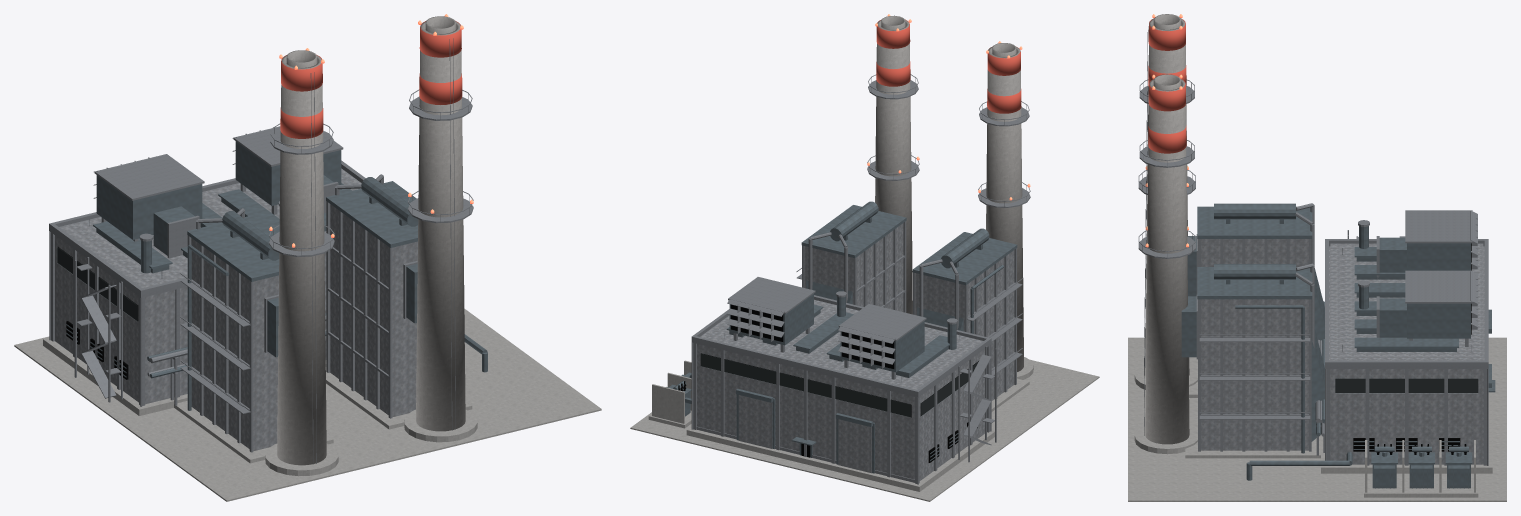
The model's file is gas_plant.glb.
The picture shows the model from 3 angles, left to right: view 1: azimuth 30°, elevation 25°; view 2: azimuth 150°, elevation 25°; view 3: azimuth 270°, elevation 25°; orthographic projection. The views are drawn at different scales.
Visible parts, largest first — view 1: HRSG, Stacks, Plinth, Hall, Intake, Trim, StackSteel, StackBands, Pipes; view 2: Hall, HRSG, Plinth, Stacks, Intake, Trim, StackBands, StackSteel, Pipes; view 3: HRSG, Hall, Plinth, Stacks, Intake, Trim, Transformers, Pipes, StackBands, StackSteel.
Boxes of the visible parts, x1,y1,x2,y2 form: HRSG: (180, 177, 418, 452); Stacks: (277, 16, 465, 465); Plinth: (14, 308, 601, 501); Hall: (55, 168, 361, 403); Intake: (93, 126, 343, 273); Trim: (49, 160, 365, 406); StackSteel: (269, 38, 473, 464); StackBands: (280, 20, 462, 138); Pipes: (147, 174, 487, 410); Hall: (697, 299, 984, 480); HRSG: (796, 201, 1022, 400); Plinth: (630, 357, 1099, 501); Stacks: (875, 15, 1023, 371); Intake: (727, 277, 957, 379); Trim: (691, 295, 996, 484); StackBands: (876, 19, 1021, 113); StackSteel: (867, 74, 1030, 207); Pipes: (808, 232, 1003, 333); HRSG: (1181, 203, 1324, 451); Hall: (1329, 243, 1495, 464); Plinth: (1128, 337, 1506, 501); Stacks: (1145, 14, 1189, 444); Intake: (1358, 210, 1477, 346); Trim: (1325, 230, 1488, 465); Transformers: (1371, 444, 1472, 488); Pipes: (1235, 203, 1352, 480); StackBands: (1148, 18, 1186, 153); StackSteel: (1138, 26, 1195, 435).
Size of the model in its own units: 54 by 55.8 by 53.
Materials: 9 (6 with a texture image).
